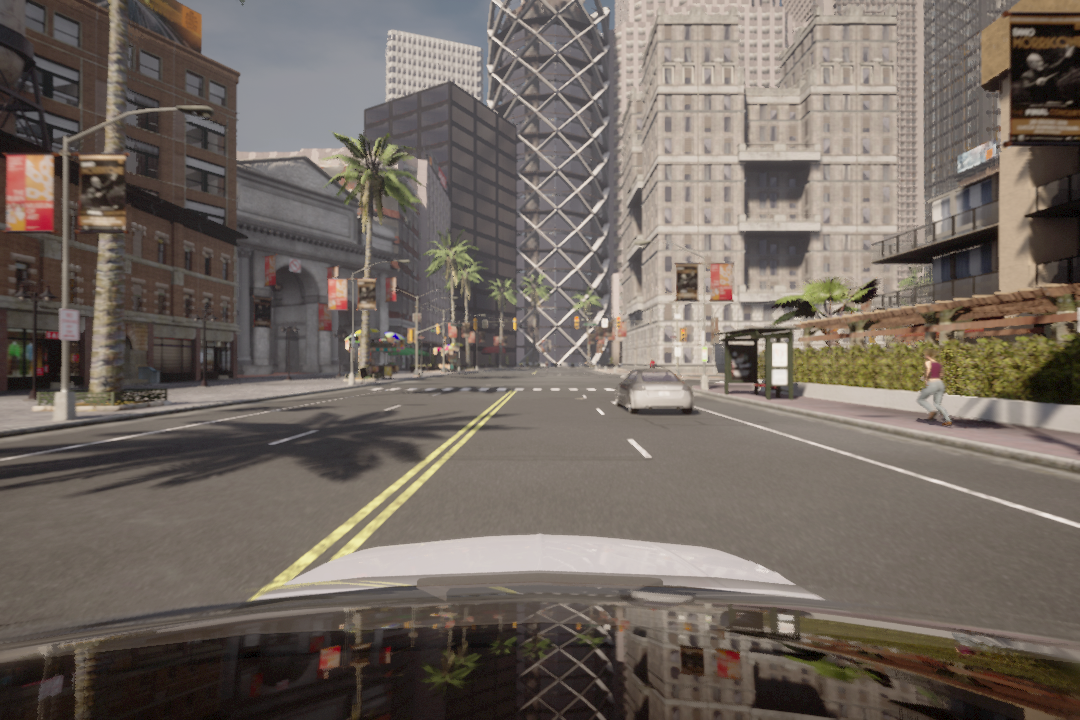walkside: (373, 385, 623, 398)
